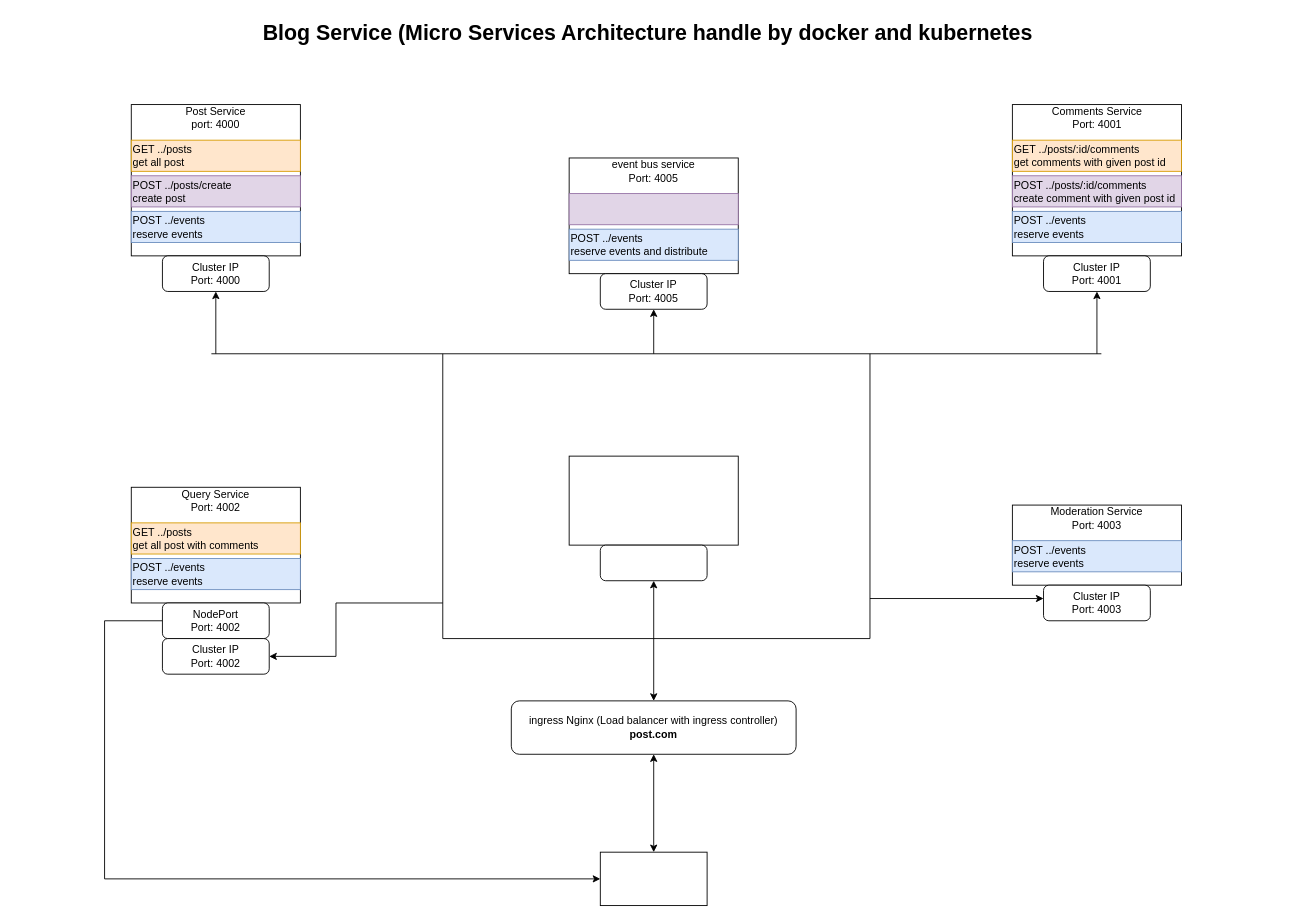
Some shapes in this 1294 by 921 pixel diagram are drawn without their labels. Each missing label, with the centre of its shape:
"Client request" belongs at [653,878].
"Client Serives (React Front End) Port: 3000" belongs at [653,500].
"Cluster IP Port: 3000" belongs at [653,562].
"GET ../events get all events" belongs at [653,209].
